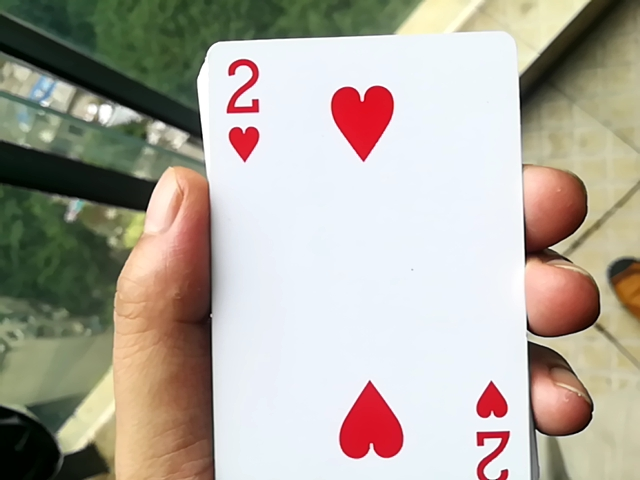hx 2: (188, 30, 538, 480)
